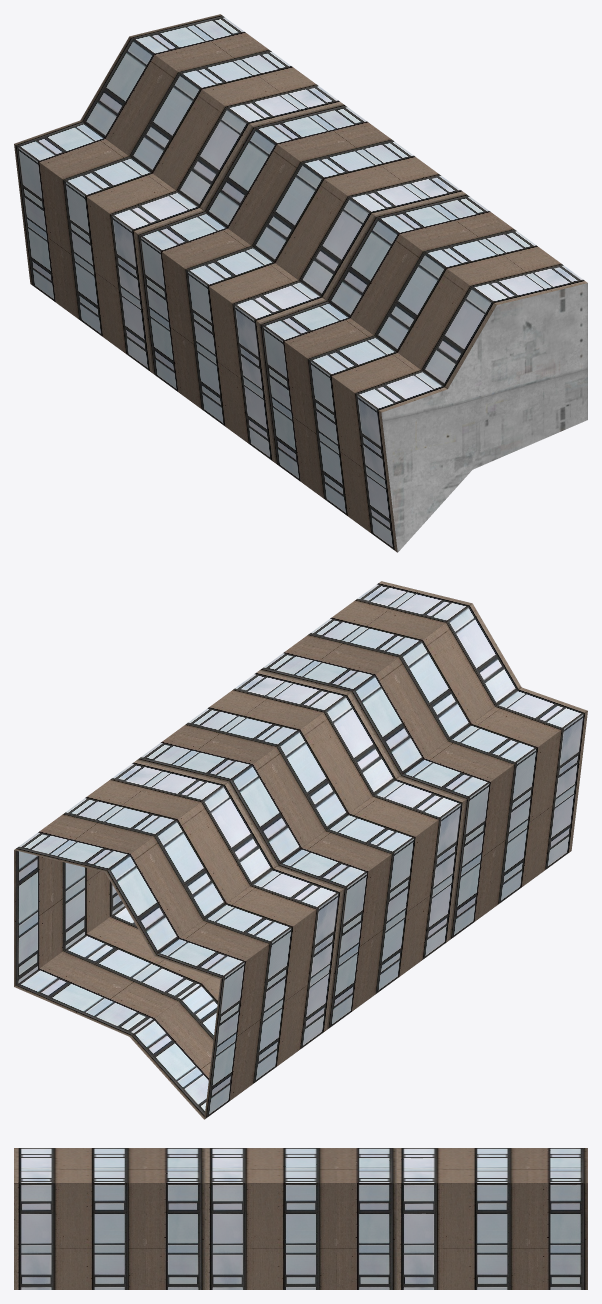
Rendered from building-67.obj.
3 views of the same model, one above another, from view 1: azimuth 30°, elevation 25°; view 2: azimuth 150°, elevation 25°; view 3: azimuth 270°, elevation 25° (orthographic). The views are drawn at different scales.
Bounding box in the file's own units: 7.5 × 7.75 × 23.1.
